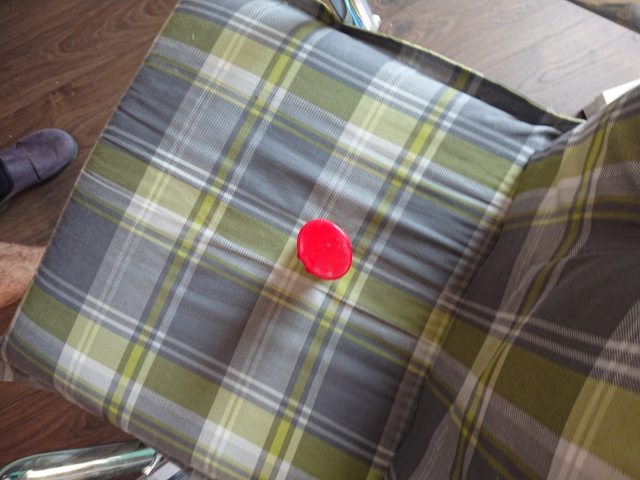Kotanyi Curry Spices Mix 70g: (295, 217, 354, 282)
